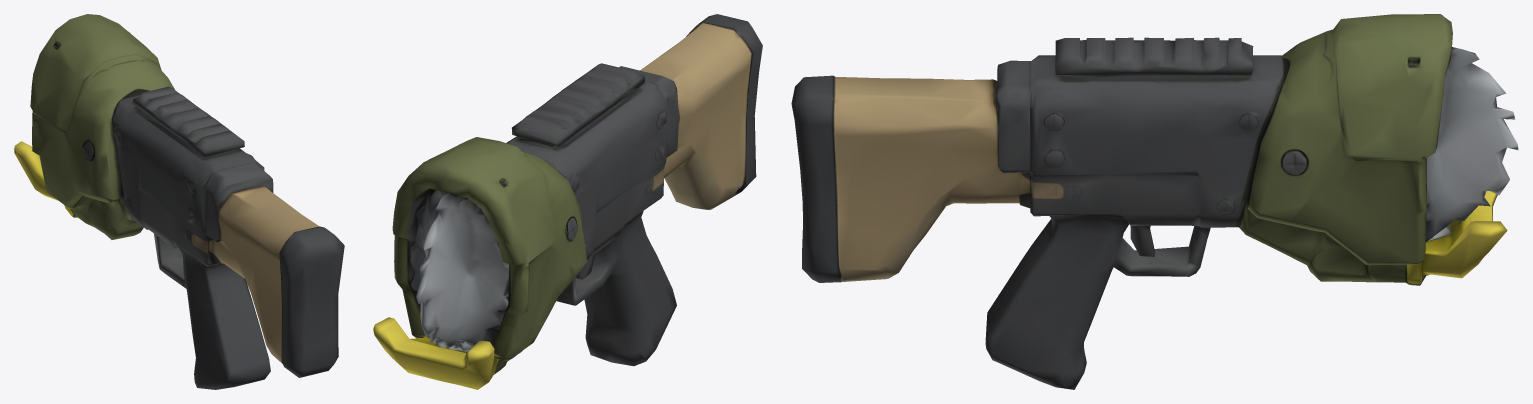
Rendered from ripper_tripo_raw.glb.
The picture shows the model from 3 angles, left to right: view 1: azimuth 30°, elevation 25°; view 2: azimuth 150°, elevation 25°; view 3: azimuth 270°, elevation 25°; orthographic projection. The views are drawn at different scales.
Parts seen in each view (by area): view 1: tripo_node_62ece8bd-e605-47bd-b4de-ccc8d1719665; view 2: tripo_node_62ece8bd-e605-47bd-b4de-ccc8d1719665; view 3: tripo_node_62ece8bd-e605-47bd-b4de-ccc8d1719665.
Boxes of the visible parts, x1,y1,x2,y2 form: tripo_node_62ece8bd-e605-47bd-b4de-ccc8d1719665: (14, 14, 344, 389); tripo_node_62ece8bd-e605-47bd-b4de-ccc8d1719665: (373, 14, 762, 389); tripo_node_62ece8bd-e605-47bd-b4de-ccc8d1719665: (791, 14, 1518, 389).
Bounding box in the file's own units: 0.242 × 0.5442 × 1.
Materials: 1 (1 with a texture image).
